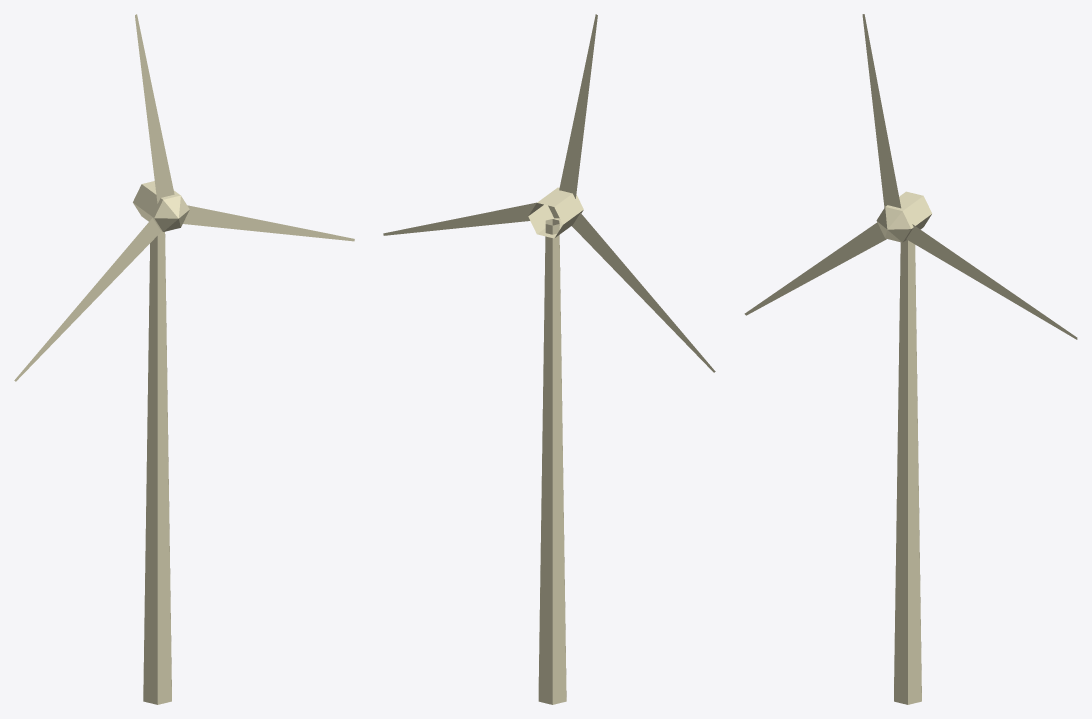
File: windmill_72_mdl.fbx
3 renders of one model, left to right at view 1: azimuth 30°, elevation 25°; view 2: azimuth 150°, elevation 25°; view 3: azimuth 330°, elevation 25°, orthographic. The views are drawn at different scales.
Parts seen in each view (by area): view 1: windmill_tower_geo, propeller_geo; view 2: windmill_tower_geo, propeller_geo; view 3: windmill_tower_geo, propeller_geo.
Part boxes in pixels (box(x1,y1,x2,y2)): windmill_tower_geo: box(133, 181, 189, 704); propeller_geo: box(14, 14, 354, 381); windmill_tower_geo: box(528, 187, 583, 704); propeller_geo: box(383, 14, 715, 372); windmill_tower_geo: box(876, 191, 932, 704); propeller_geo: box(744, 14, 1077, 339).
Bounding box in the file's own units: 3600 × 7073 × 517.
